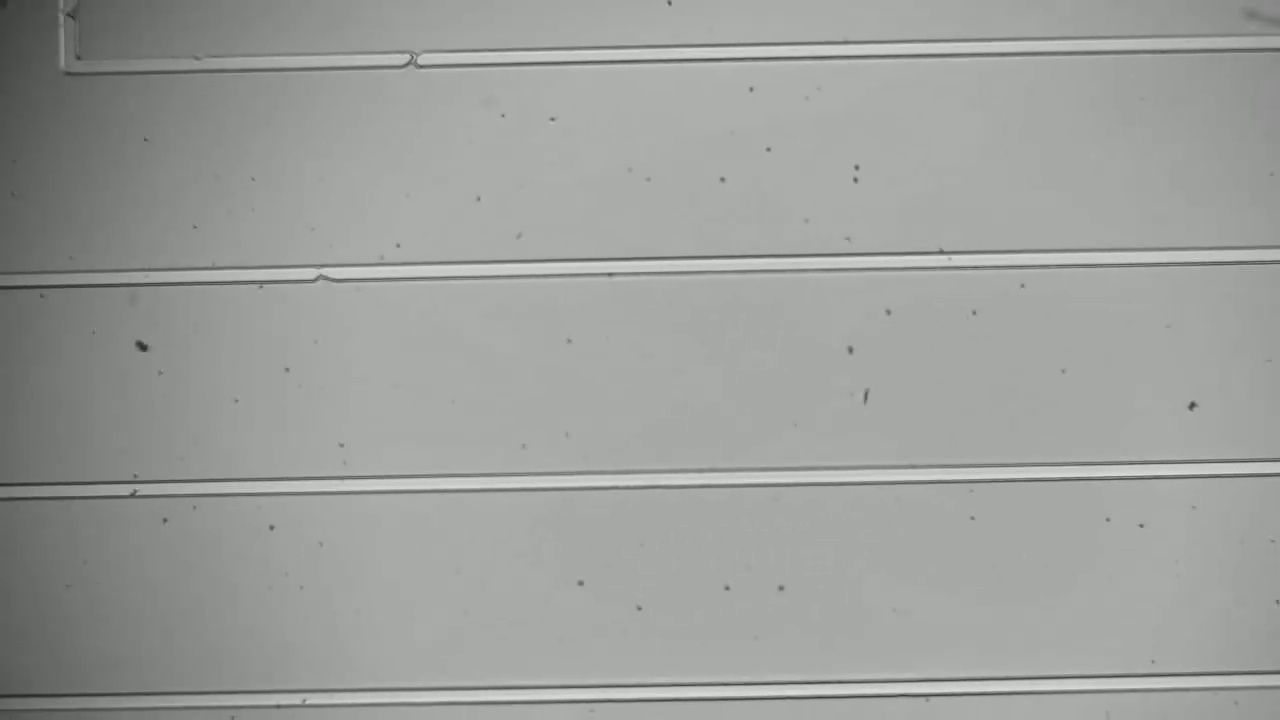edge_bite: (306, 254, 340, 291), (52, 2, 88, 27)
open: (395, 41, 432, 75)
